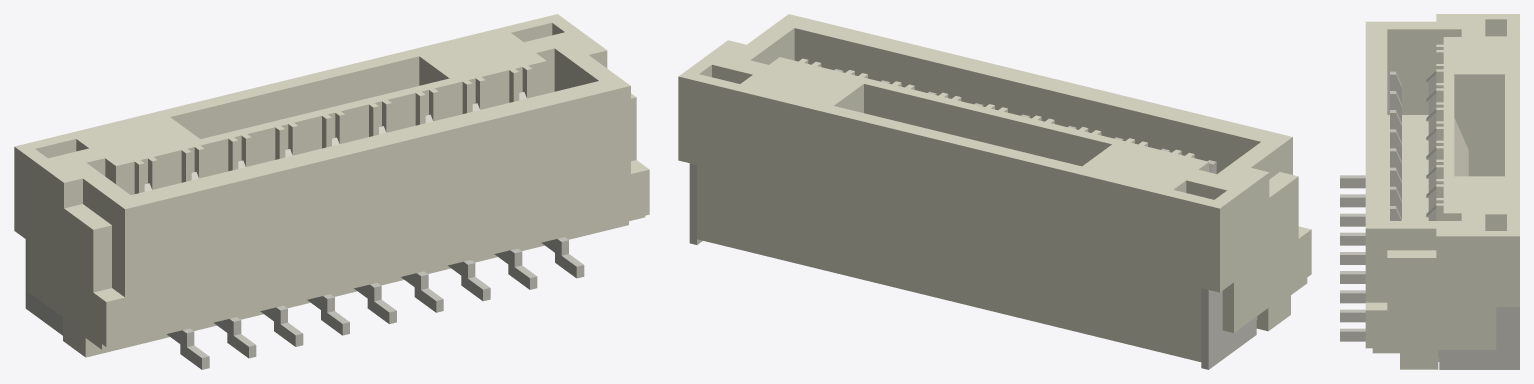
The model's file is kc-jst_gh_bm09b-ghs-tbt_1x09-1mp_p1.25mm_vertical.glb.
3 renders of one model, left to right at view 1: azimuth 30°, elevation 25°; view 2: azimuth 150°, elevation 25°; view 3: azimuth 270°, elevation 25°, orthographic. The views are drawn at different scales.
Parts seen in each view (by area): view 1: 0.75_0.75_0.5833333333333334_0, 0.6666666666666666_0.6666666666666666_0.5833333333333334_0.8; view 2: 0.75_0.75_0.5833333333333334_0, 0.6666666666666666_0.6666666666666666_0.5833333333333334_0.8; view 3: 0.75_0.75_0.5833333333333334_0, 0.6666666666666666_0.6666666666666666_0.5833333333333334_0.8.
Part boxes in pixels (x1,y1,x2,y2): 0.75_0.75_0.5833333333333334_0: (14, 14, 649, 357); 0.6666666666666666_0.6666666666666666_0.5833333333333334_0.8: (25, 92, 584, 369); 0.75_0.75_0.5833333333333334_0: (678, 14, 1311, 361); 0.6666666666666666_0.6666666666666666_0.5833333333333334_0.8: (689, 69, 1257, 369); 0.75_0.75_0.5833333333333334_0: (1365, 14, 1519, 369); 0.6666666666666666_0.6666666666666666_0.5833333333333334_0.8: (1340, 71, 1519, 369).
Bounding box in the file's own units: 1.45 × 0.42 × 0.495.
